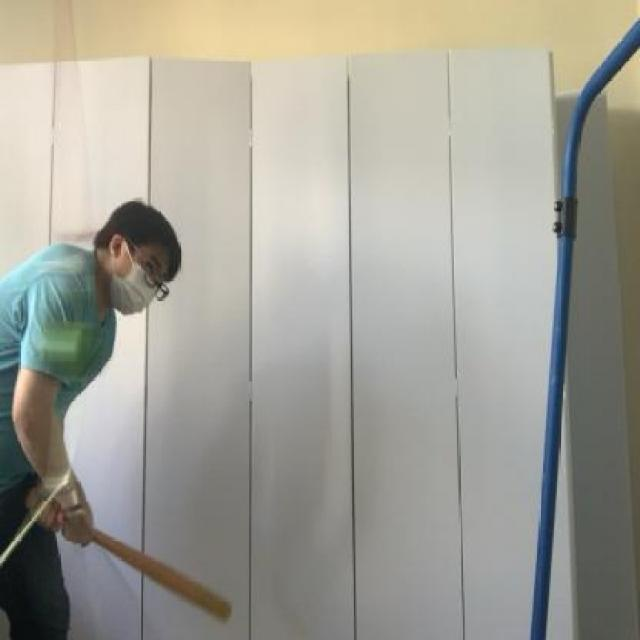baseball: (28, 305, 112, 390)
